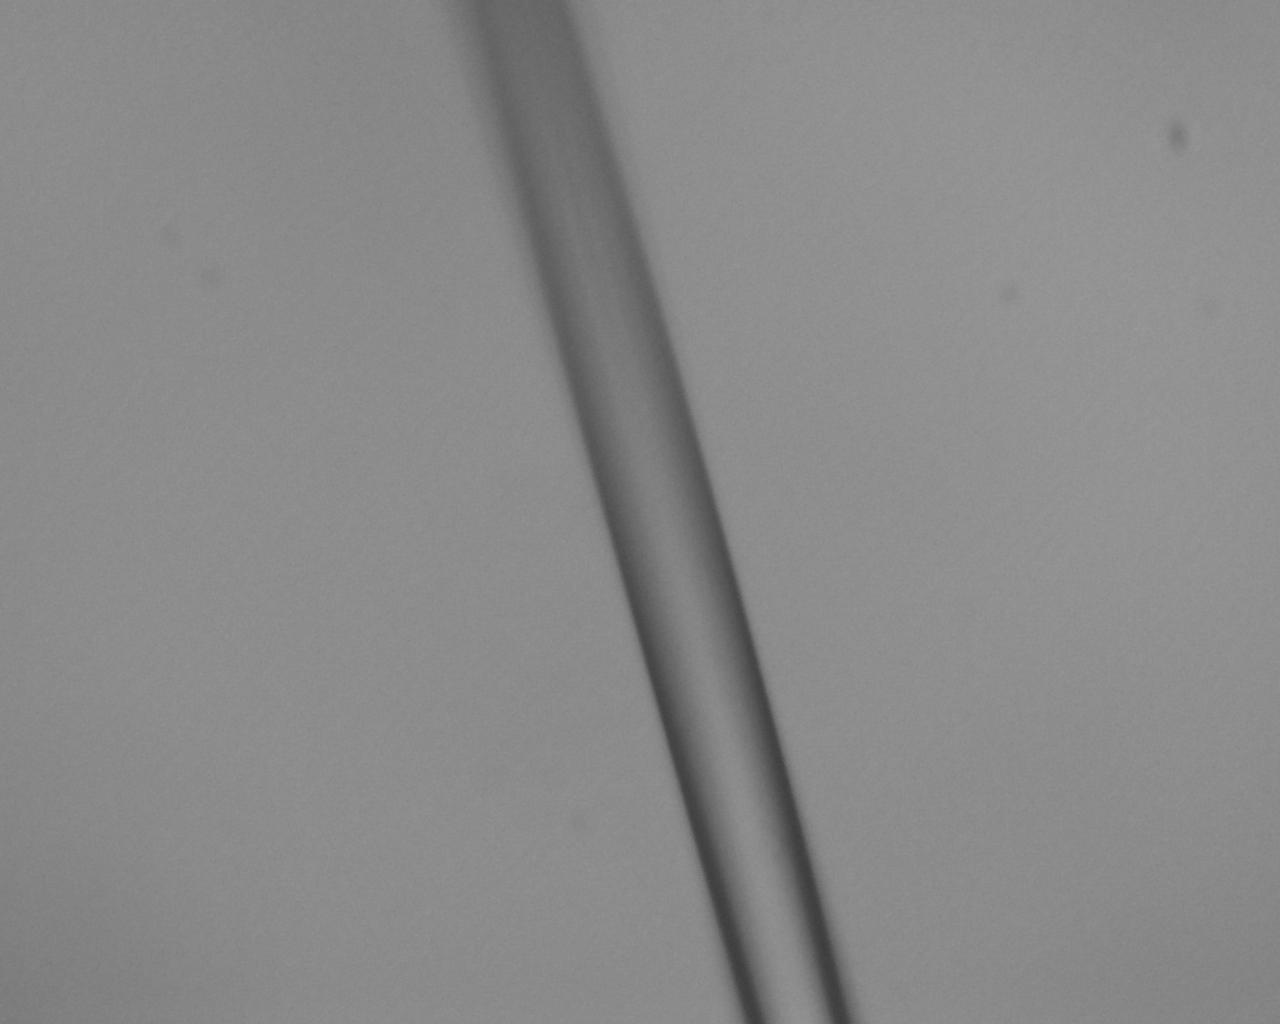fiber: (0, 621, 665, 930), (695, 732, 1280, 937), (0, 336, 665, 376)
